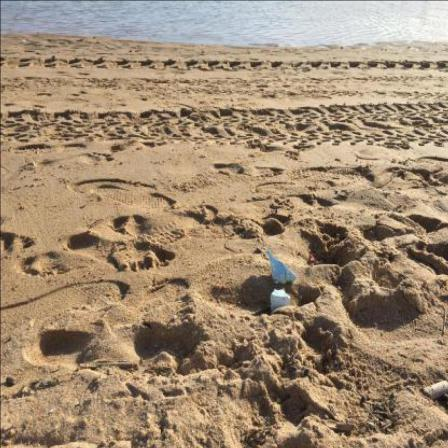Styrofoam piece: (266, 250, 298, 285), (272, 289, 292, 313)
Unlabeled litter: (310, 254, 324, 266)
